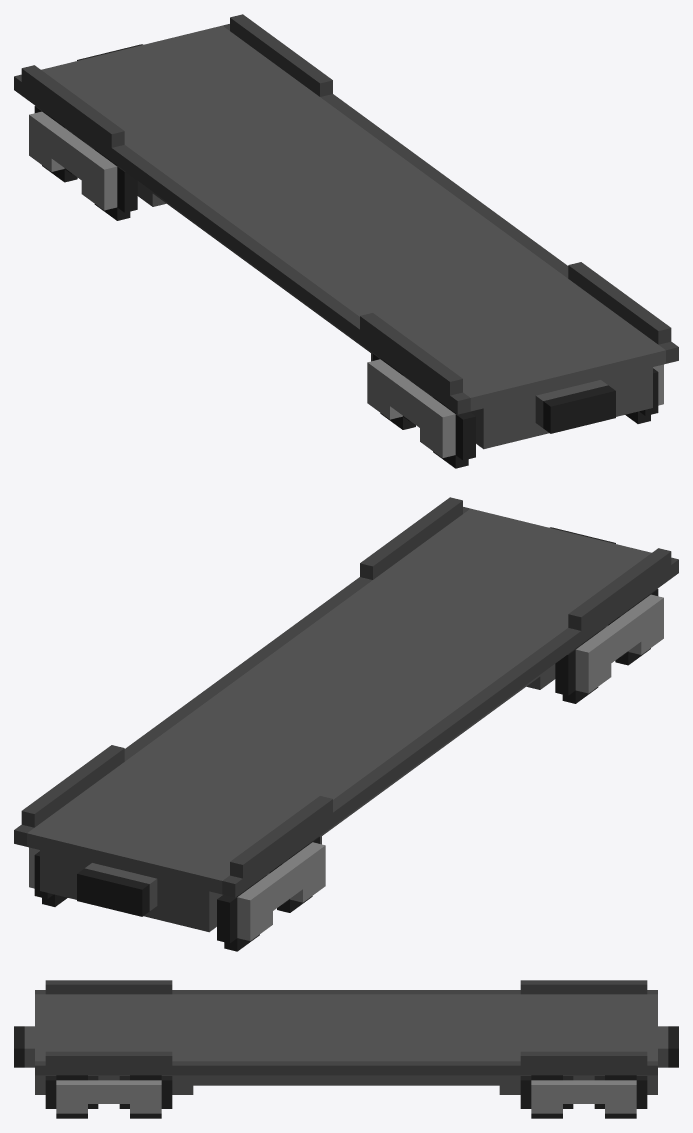
Rendered from veh_train3.obj.
The picture shows the model from 3 angles, top to bottom: view 1: azimuth 30°, elevation 25°; view 2: azimuth 150°, elevation 25°; view 3: azimuth 270°, elevation 25°; orthographic projection. The views are drawn at different scales.
Size of the model in its own units: 1.7 by 0.7 by 6.3.
1 material, 1 textured.
